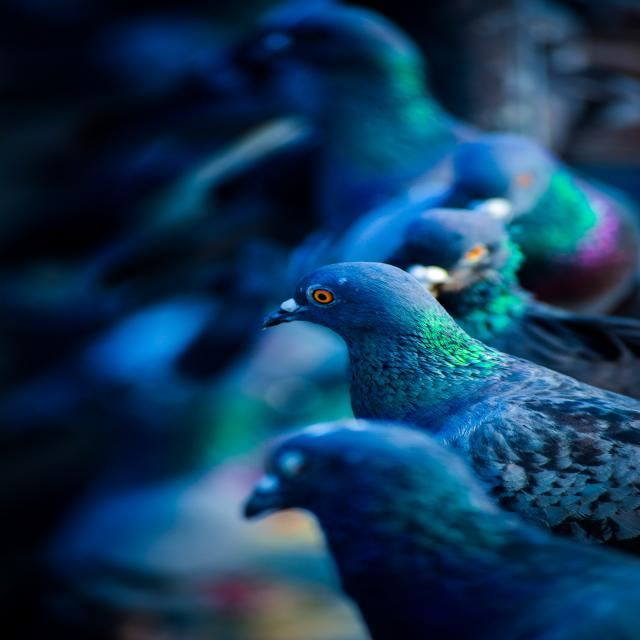pigeon: (277, 259, 640, 540), (221, 418, 616, 617), (307, 218, 640, 401)
